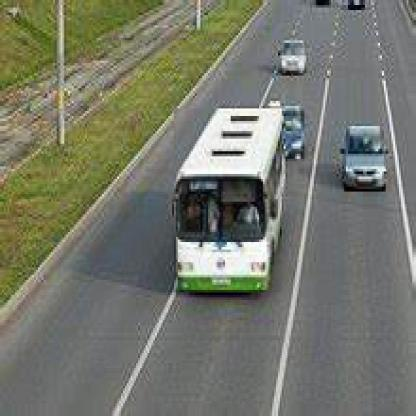bus: (175, 109, 285, 296)
car: (345, 127, 389, 195), (287, 107, 308, 162), (281, 41, 309, 77)
